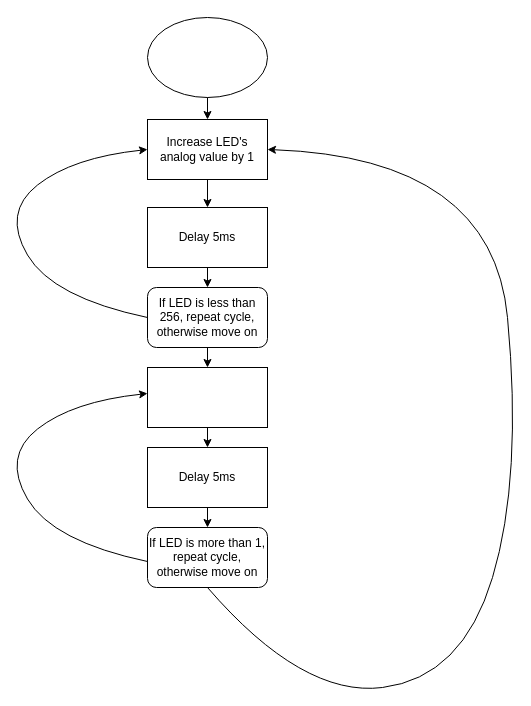
Some shapes in this 531 by 706 pixel diagram are drawn without their labels. The shapes that lost their labels are listed below. From the top down, each one's centre as x and y in pixels, then its label:
At pixel 207 57: "Run program".
At pixel 207 397: "Decrease LED's analog value by 1".
